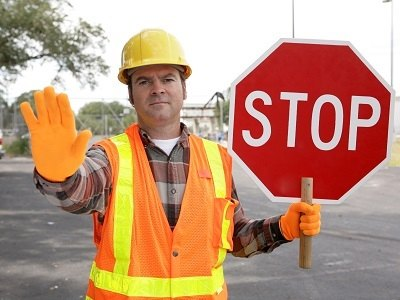hard hat: (118, 29, 192, 84)
high-vis: (90, 124, 240, 300)
